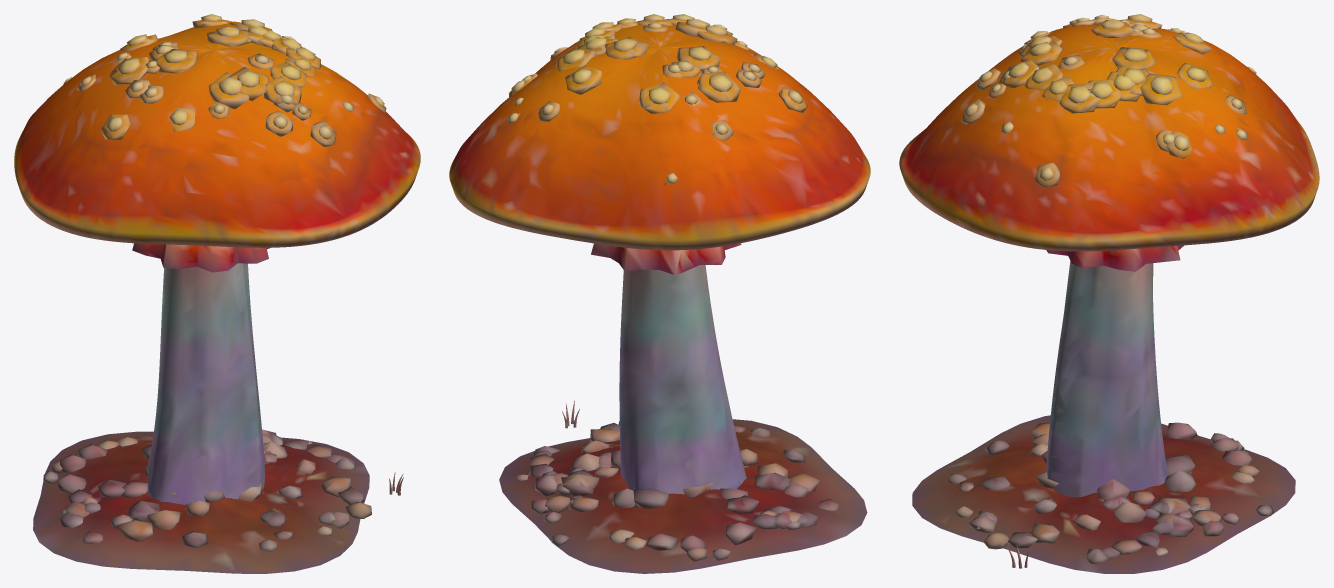
File: mantar_kume_1.glb
3 views of the same model, side by side, from view 1: azimuth 30°, elevation 25°; view 2: azimuth 150°, elevation 25°; view 3: azimuth 270°, elevation 25° (orthographic). The views are drawn at different scales.
Visible parts, largest first — view 1: mantar_kume_1_LOD0; view 2: mantar_kume_1_LOD0; view 3: mantar_kume_1_LOD0.
Boxes of the visible parts, bbox=[...] form: mantar_kume_1_LOD0: bbox=[14, 14, 420, 573]; mantar_kume_1_LOD0: bbox=[449, 14, 870, 573]; mantar_kume_1_LOD0: bbox=[899, 14, 1319, 573].
Size of what is drawn, in the model's own units: 23.11 by 28.59 by 23.15.
